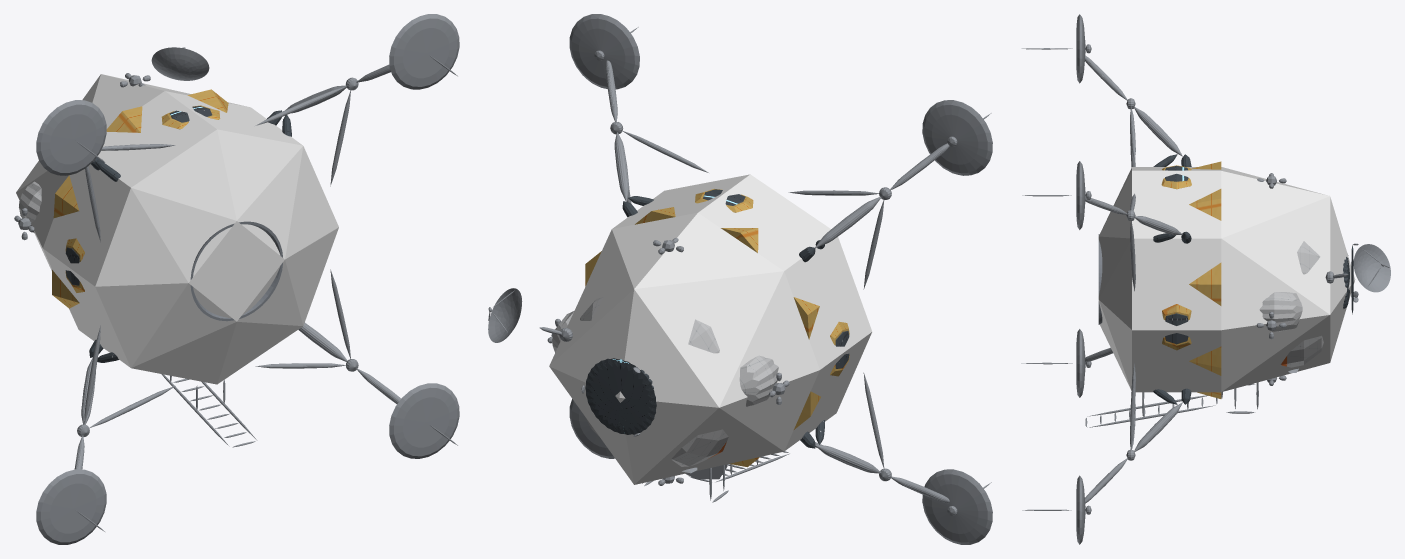
File: lunar_lander.glb
3 views of the same model, side by side, from view 1: azimuth 30°, elevation 25°; view 2: azimuth 150°, elevation 25°; view 3: azimuth 270°, elevation 25° (orthographic). The views are drawn at different scales.
Parts seen in each view (by area): view 1: COL_hull, LunarLander_LOD0; view 2: COL_hull, LunarLander_LOD0; view 3: COL_hull, LunarLander_LOD0.
Boxes of the visible parts, x1,y1,x2,y2 form: COL_hull: (16, 74, 338, 384); LunarLander_LOD0: (14, 14, 459, 544); COL_hull: (549, 174, 872, 484); LunarLander_LOD0: (488, 14, 992, 544); COL_hull: (1098, 167, 1355, 392); LunarLander_LOD0: (1021, 14, 1390, 544).
Size of what is drawn, in the model's own units: 7.46 by 7.46 by 6.63.
Materials: 4 (1 with a texture image).
